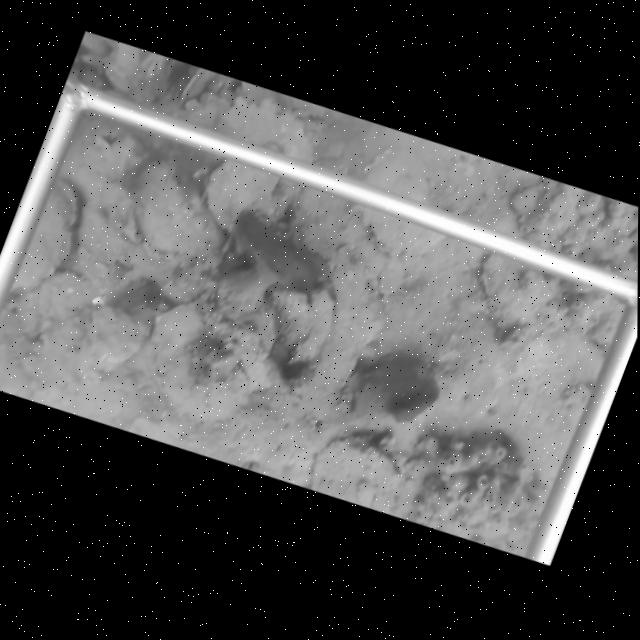Oyster-Indeterminate: (130, 161, 225, 258), (10, 176, 83, 295), (477, 254, 566, 341), (360, 145, 462, 219), (309, 432, 403, 512), (74, 304, 150, 385), (204, 161, 284, 234), (353, 203, 447, 263)
